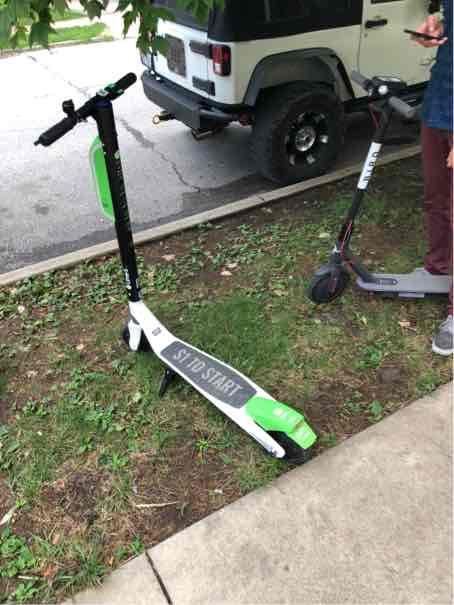scooter: (29, 67, 338, 474)
